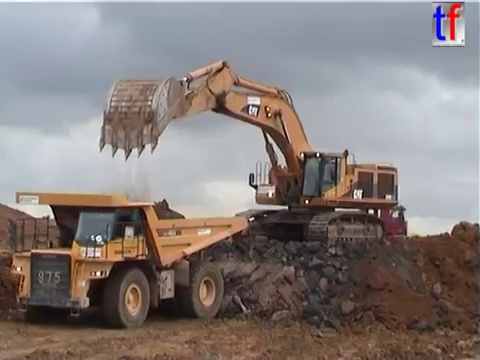excavator: (96, 57, 402, 250)
truck: (5, 190, 250, 331), (275, 202, 409, 254)
